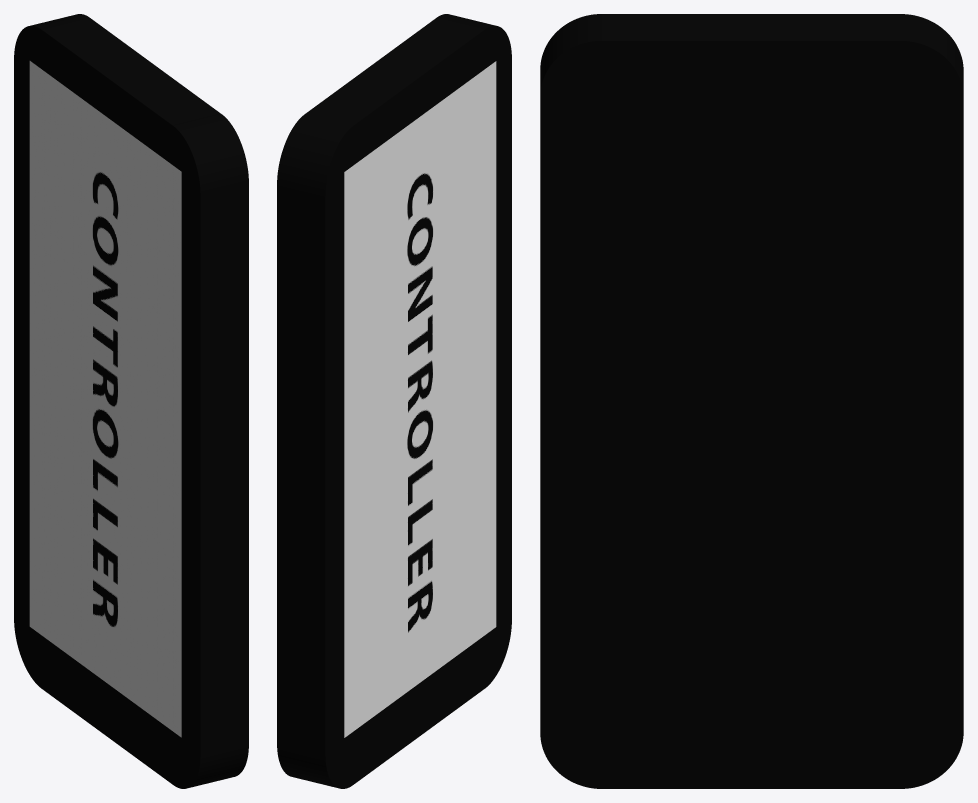
Rendered from controller.obj.
3 renders of one model, left to right at view 1: azimuth 30°, elevation 25°; view 2: azimuth 150°, elevation 25°; view 3: azimuth 270°, elevation 25°, orthographic. The views are drawn at different scales.
Parts seen in each view (by area): view 1: Plane, Phone; view 2: Plane, Phone; view 3: Phone.
Boxes of the visible parts, box(x1,y1,x2,y2) form: Plane: box(29, 61, 181, 737); Phone: box(14, 14, 248, 788); Plane: box(344, 61, 496, 737); Phone: box(277, 14, 511, 788); Phone: box(540, 14, 963, 788).
Size of the model in its own units: 31 by 390 by 200.
